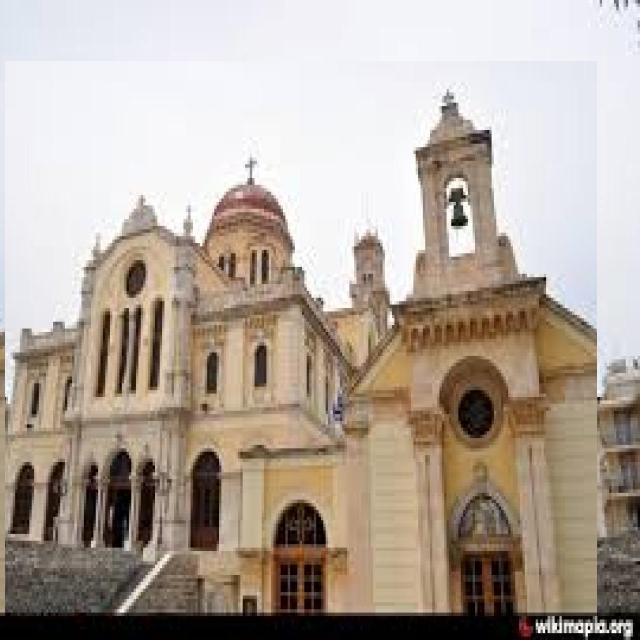Agios Minas: (7, 62, 599, 617)
